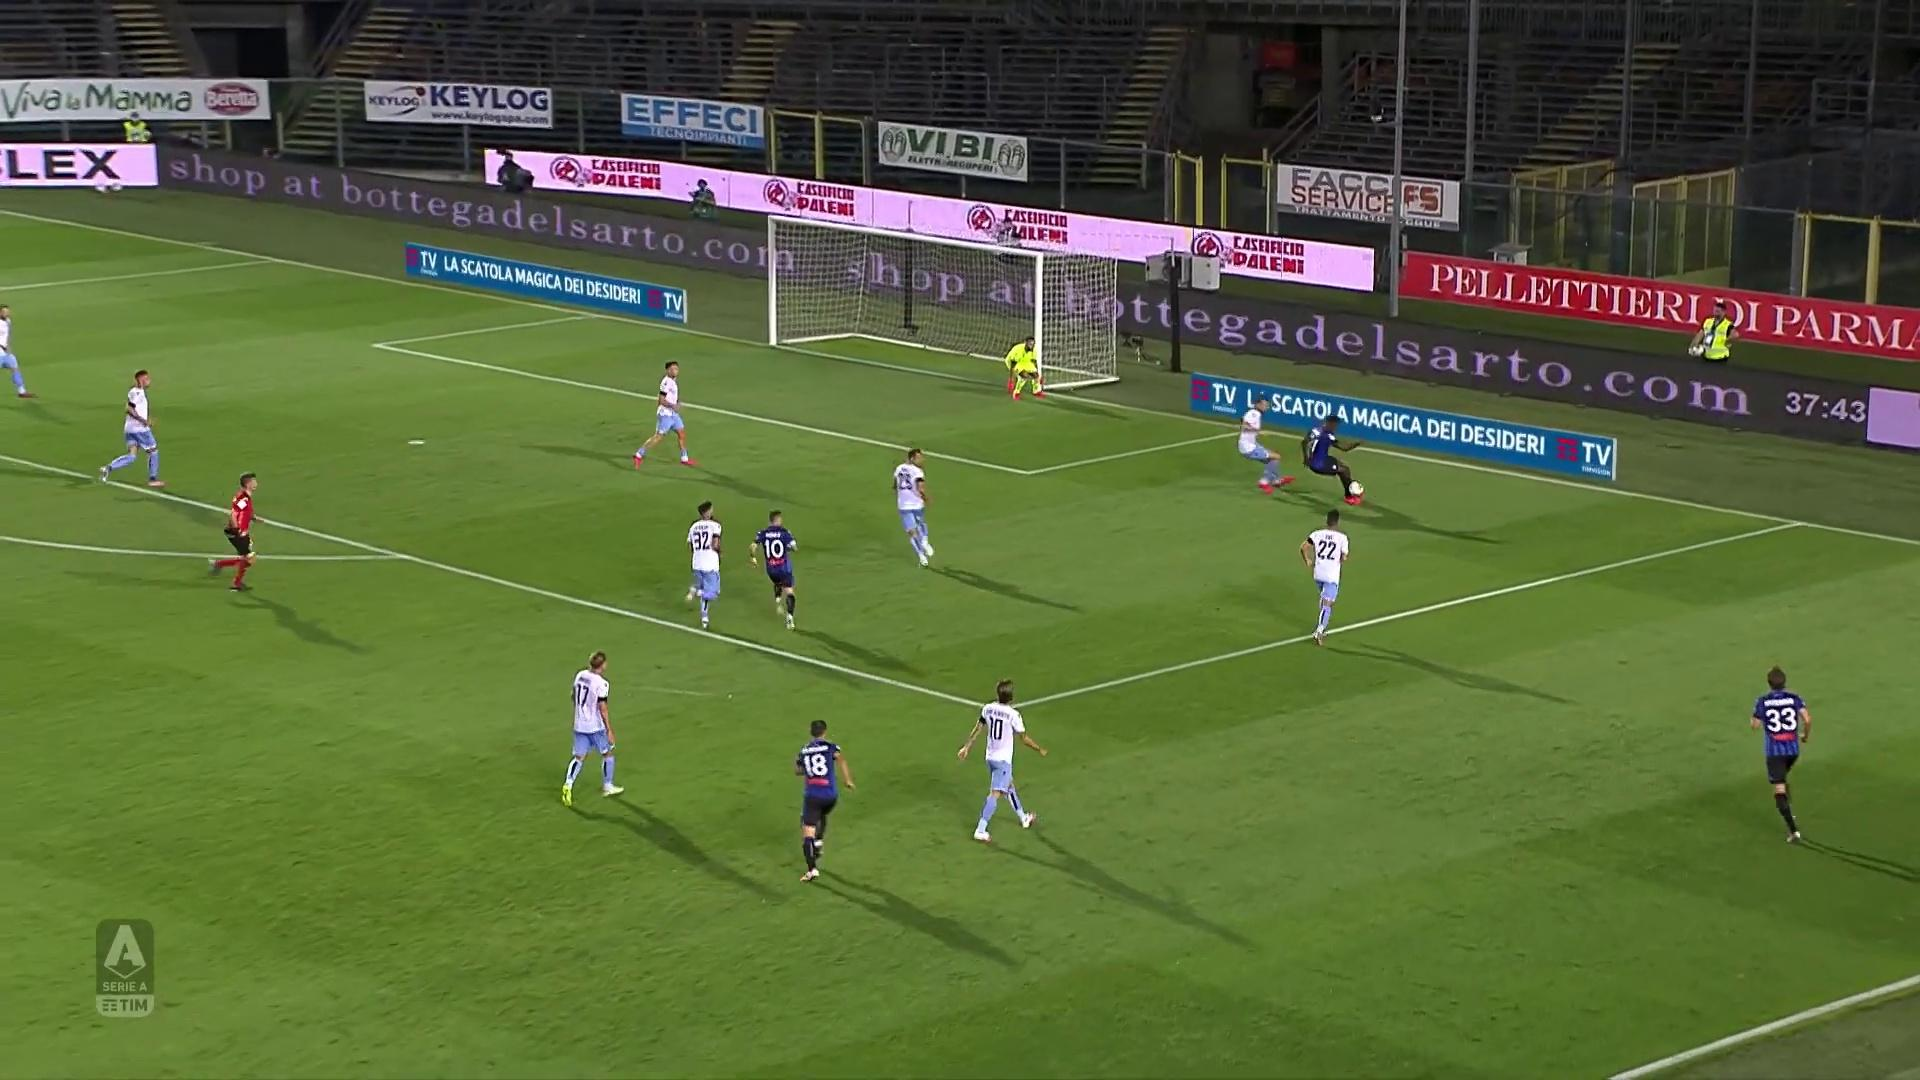ball: (1346, 476, 1369, 503)
goalkeeper: (1004, 333, 1049, 403)
player: (962, 678, 1054, 846), (1740, 663, 1813, 850), (557, 646, 628, 812), (790, 716, 856, 886), (99, 370, 168, 493), (1299, 509, 1356, 648), (632, 358, 699, 469), (748, 505, 804, 634), (887, 442, 939, 567), (1301, 413, 1367, 508), (683, 495, 729, 627), (1234, 396, 1291, 496), (0, 302, 36, 402)
referee: (205, 475, 262, 598)
